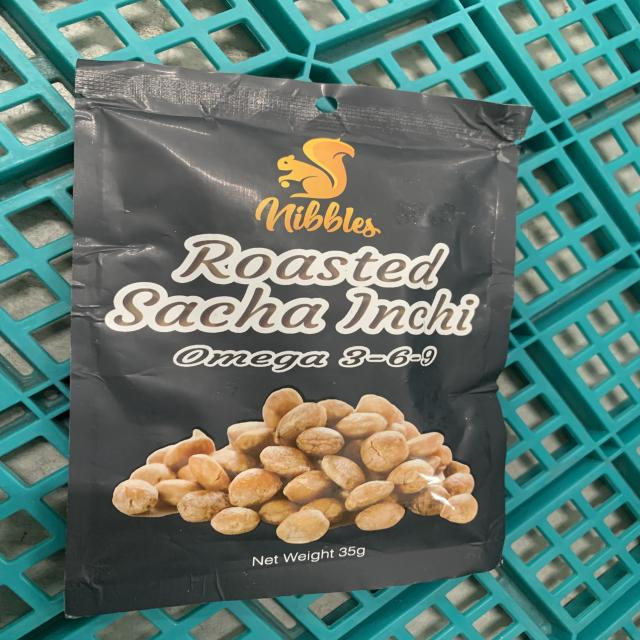object_name: (78, 63, 498, 587)
